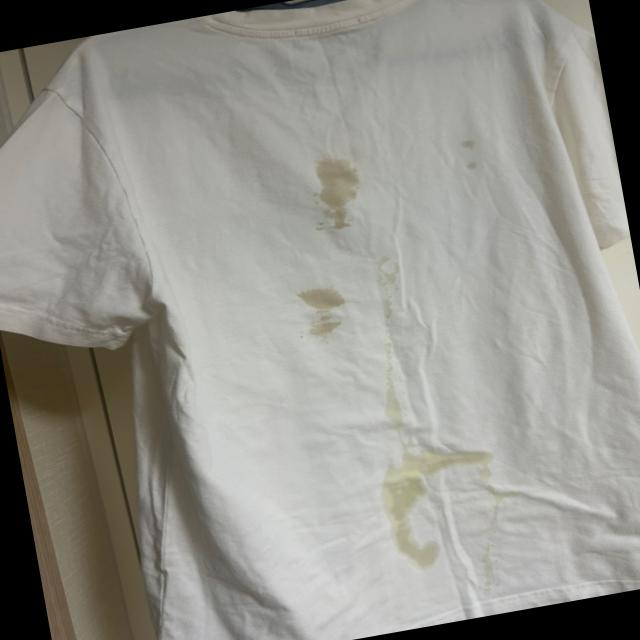stain: (360, 432, 510, 498), (295, 152, 380, 236), (380, 482, 442, 574), (281, 281, 349, 343), (344, 243, 408, 303), (362, 364, 417, 427), (440, 129, 486, 180)
